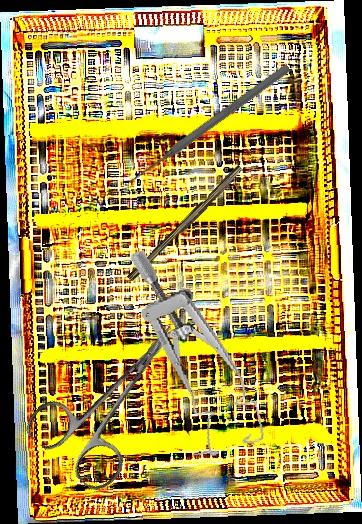Iris Scissors: (20, 296, 215, 497)
Pusher: (125, 61, 293, 188)
Scalpel Handle: (126, 163, 246, 285)
Speculum: (127, 233, 267, 465)
